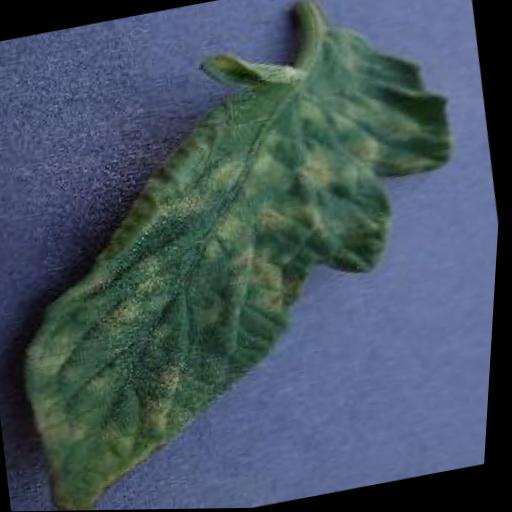Leaf Mold: (0, 11, 511, 512)
